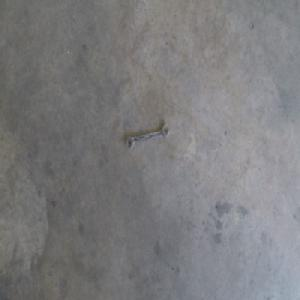Wrench: (126, 122, 169, 148)
